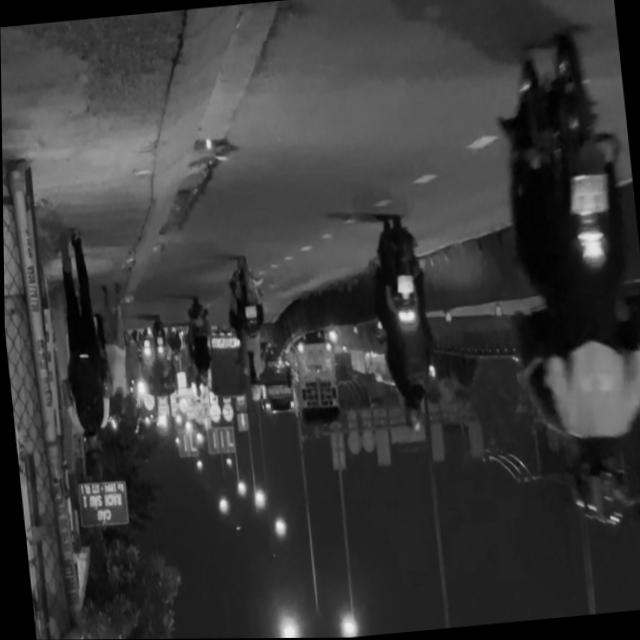helmet: (568, 437, 632, 530)
licenseplate: (482, 27, 640, 538)
nohelmet: (569, 175, 611, 217)
